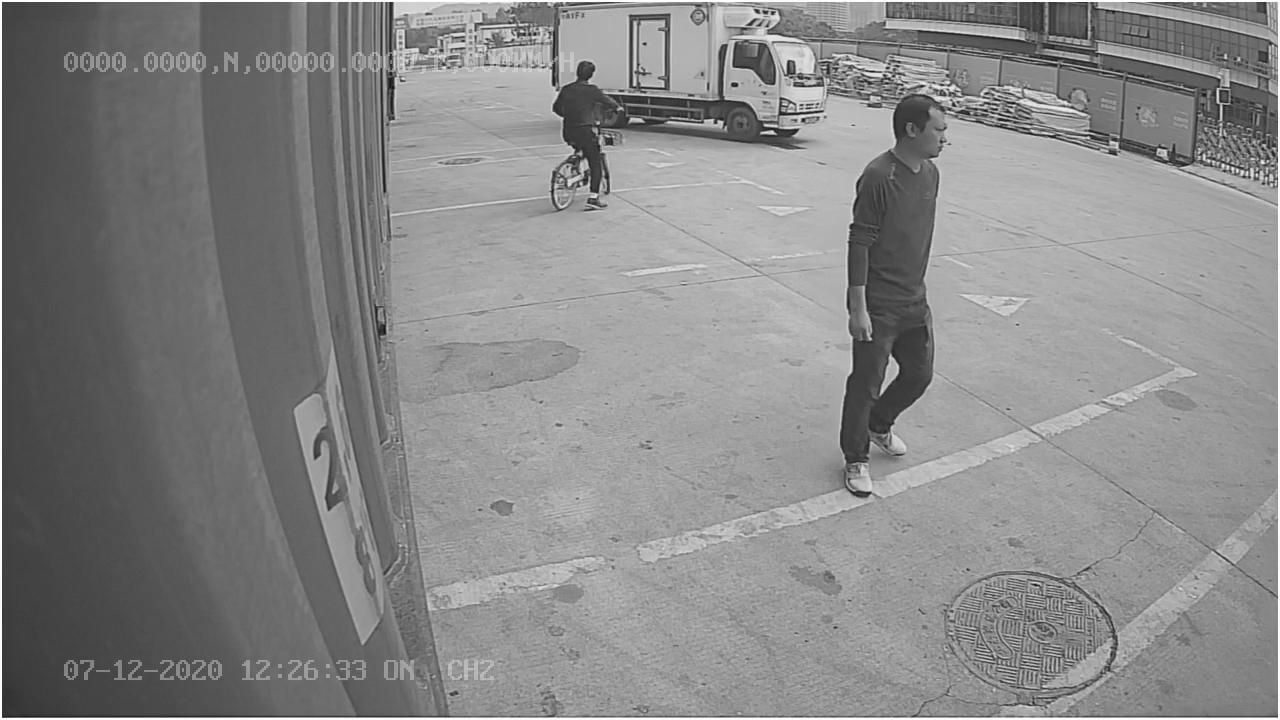person: (835, 88, 955, 508)
